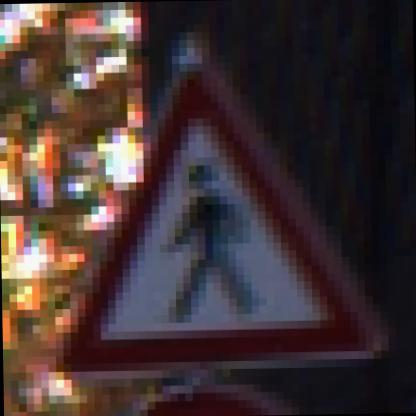crosswalk: (52, 75, 387, 370)
